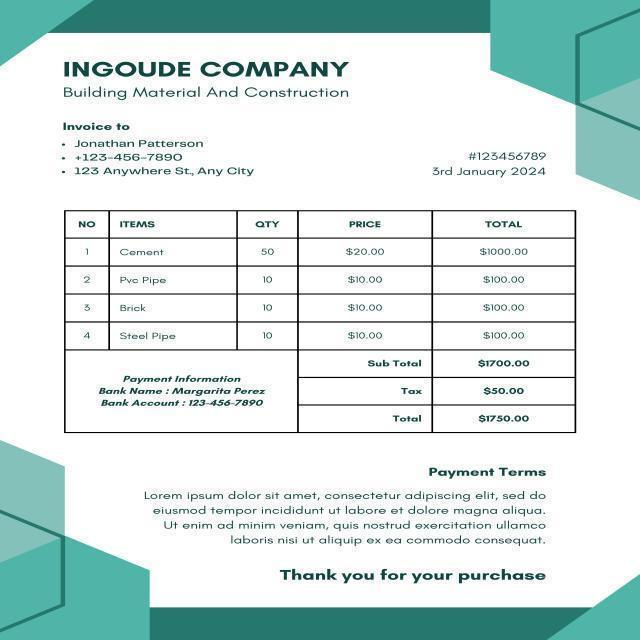paragraph: (132, 464, 572, 549), (299, 351, 575, 434), (58, 55, 358, 101), (52, 121, 269, 182), (87, 364, 270, 418), (272, 562, 552, 596), (431, 142, 555, 181)
table: (63, 203, 579, 348)
